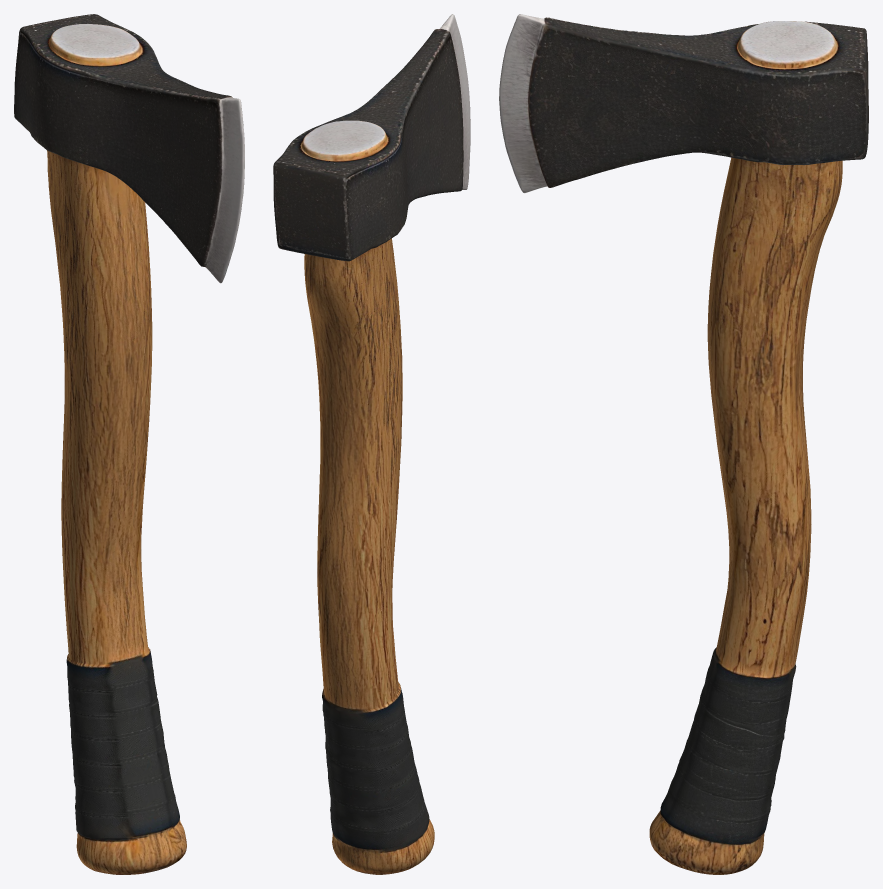
File: melee_hatchet.glb
3 renders of one model, left to right at view 1: azimuth 30°, elevation 25°; view 2: azimuth 150°, elevation 25°; view 3: azimuth 270°, elevation 25°, orthographic. The views are drawn at different scales.
Parts seen in each view (by area): view 1: melee_hatchet; view 2: melee_hatchet; view 3: melee_hatchet.
Boxes of the visible parts, x1,y1,x2,y2 form: melee_hatchet: [14, 14, 244, 874]; melee_hatchet: [273, 14, 470, 874]; melee_hatchet: [499, 14, 868, 874].
Bounding box in the file's own units: 0.0468 × 0.36 × 0.1409.
Materials: 1 (1 with a texture image).
